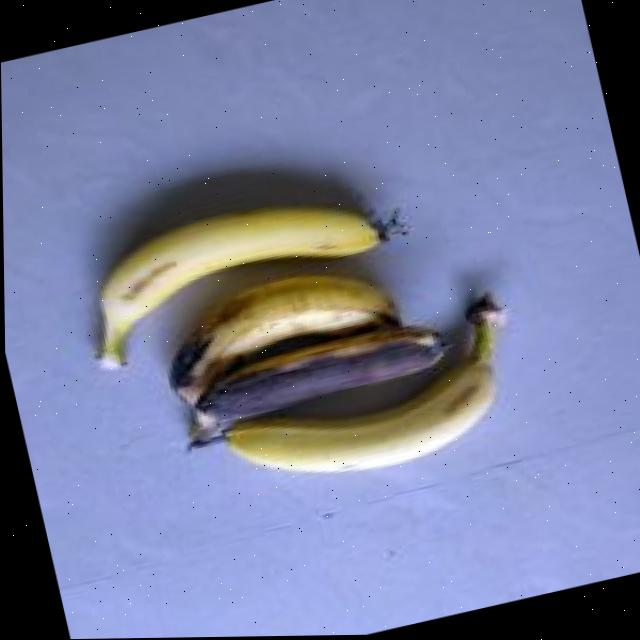Wet: (155, 248, 415, 410), (173, 311, 466, 432)
